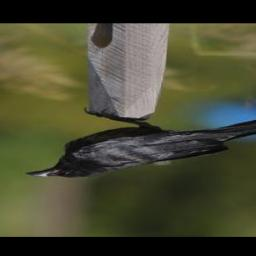Crow: (23, 108, 256, 179)
